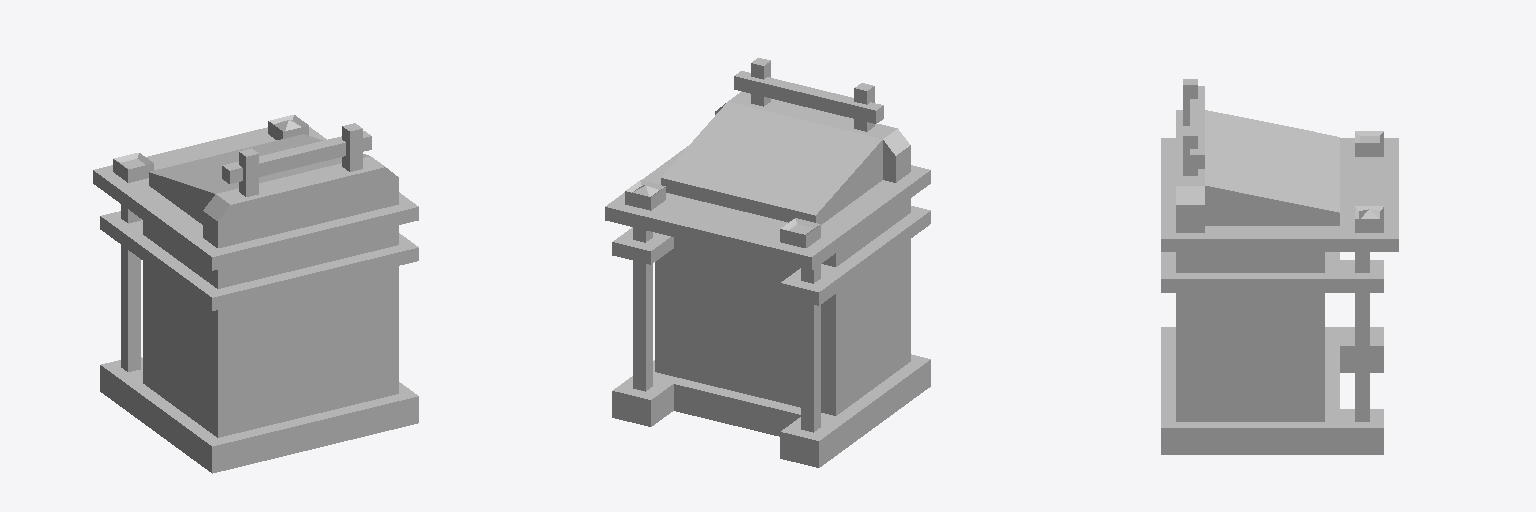
File: scribes_bench_inventory.obj
The picture shows the model from 3 angles: view 1: azimuth 30°, elevation 25°; view 2: azimuth 150°, elevation 25°; view 3: azimuth 270°, elevation 25°; orthographic projection.
Visible parts, largest first — view 1: DESK_SINGLE_MAIN.006, SCRIBES_MAIN_Cube.020, SCRIBES_SPELLPAGE_TARGET_Cube.016; view 2: DESK_SINGLE_MAIN.006, SCRIBES_MAIN_Cube.020, SCRIBES_SPELLPAGE_TARGET_Cube.016, SCRIBES_SPELLPAGE_SOURCE_Cube.023; view 3: DESK_SINGLE_MAIN.006, SCRIBES_MAIN_Cube.020, SCRIBES_SPELLPAGE_TARGET_Cube.016, SCRIBES_SPELLPAGE_SOURCE_Cube.023.
Part boxes in pixels (x1,y1,x2,y2): DESK_SINGLE_MAIN.006: (93,127,418,473); SCRIBES_MAIN_Cube.020: (113,115,398,247); SCRIBES_SPELLPAGE_TARGET_Cube.016: (167,155,238,184); DESK_SINGLE_MAIN.006: (605,146,930,467); SCRIBES_MAIN_Cube.020: (625,58,910,247); SCRIBES_SPELLPAGE_TARGET_Cube.016: (756,131,864,197); SCRIBES_SPELLPAGE_SOURCE_Cube.023: (679,113,786,178); DESK_SINGLE_MAIN.006: (1161,138,1398,454); SCRIBES_MAIN_Cube.020: (1176,79,1383,232); SCRIBES_SPELLPAGE_TARGET_Cube.016: (1228,114,1316,163); SCRIBES_SPELLPAGE_SOURCE_Cube.023: (1228,152,1316,200).
Bounding box in the file's own units: 1 × 1.38 × 1.